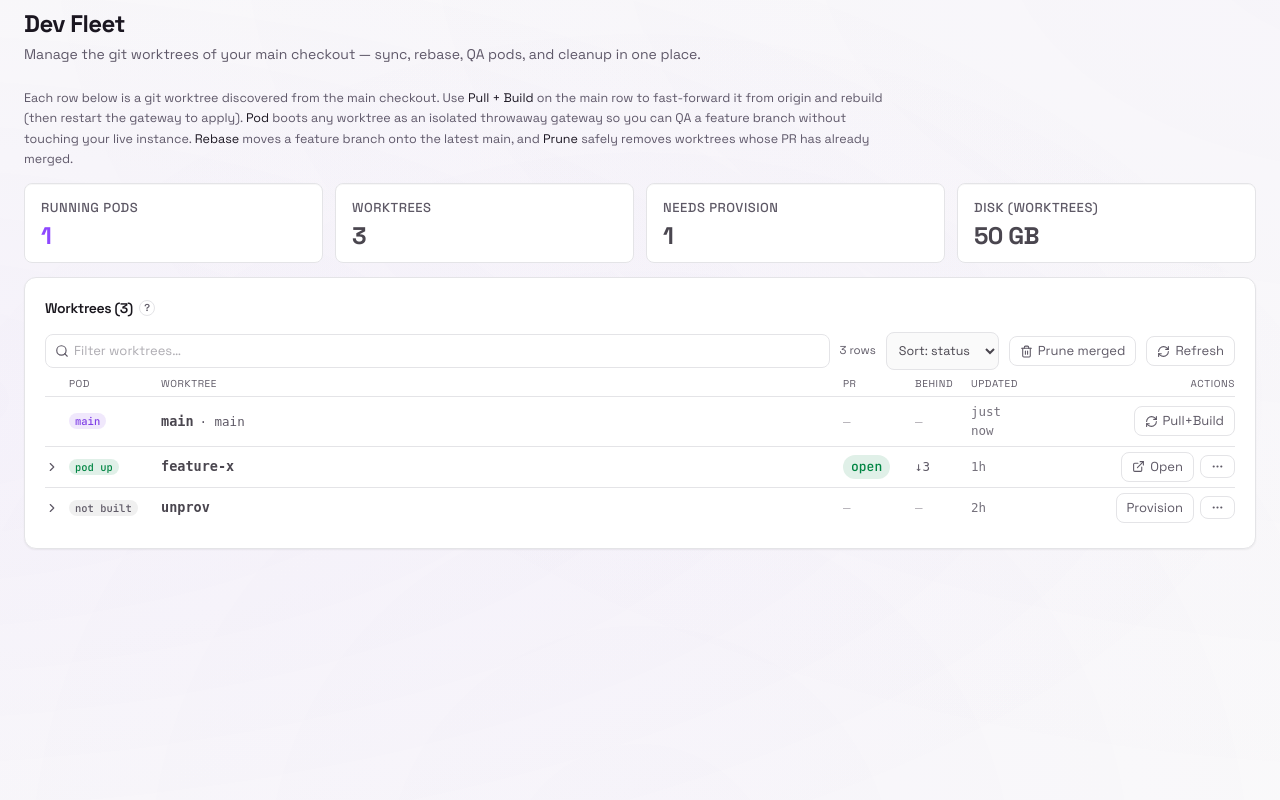
Test: DevFleetPage › prune dialog renders with candidates and kept rows
The width and height of the screenshot is (1280, 800).
Expected: the text "feature-x" is shown, [161,456,234,477]
Click the button "Prune merged". click: [1073, 351]
box: [1009,336,1136,366]
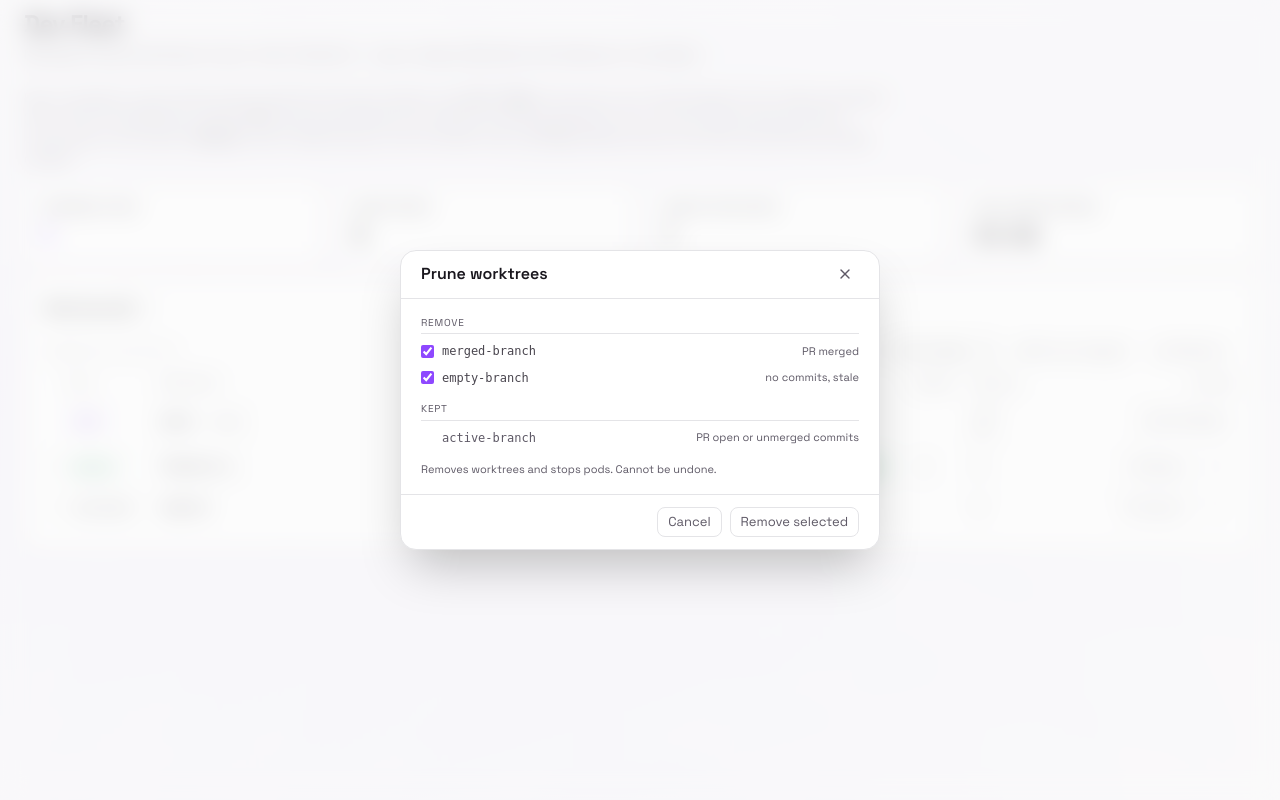
Expected: the text "Prune worktrees" is shown, [421,262,548,286]
Expected: the text "merged-branch" is shown, [442,344,536,358]
Expected: the text "empty-branch" is shown, [442,371,529,385]
